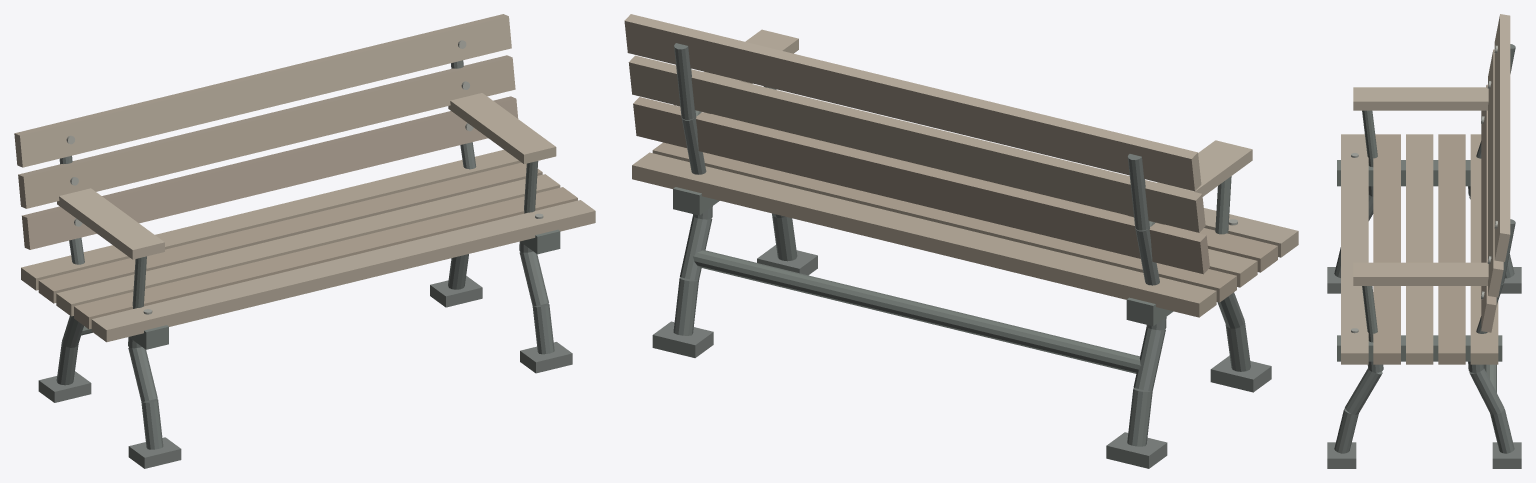
The picture shows the model from 3 angles, left to right: view 1: azimuth 30°, elevation 25°; view 2: azimuth 150°, elevation 25°; view 3: azimuth 270°, elevation 25°; orthographic projection. The views are drawn at different scales.
Parts seen in each view (by area): view 1: Backrest_Slat_03_Top_Bleached, Backrest_Slat_02_Middle, Backrest_Slat_01_Lower, Seat_Slat_01_Front_Worn, Seat_Slat_03, Seat_Slat_04, Seat_Slat_02, Seat_Slat_05_Rear, Right_Arm_Timber_Cap_Worn, Left_Arm_Timber_Cap_Worn, Left_Front_Foot_Shoe, Right_Front_Foot_Shoe (+12 smaller); view 2: Backrest_Slat_03_Top_Bleached, Backrest_Slat_01_Lower, Backrest_Slat_02_Middle, Seat_Slat_05_Rear, Rear_Leg_Transverse_Stretcher, Seat_Slat_04, Seat_Slat_02, Left_Arm_Timber_Cap_Worn, Seat_Slat_01_Front_Worn, Left_Rear_Foot_Shoe, Right_Rear_Foot_Shoe, Left_Front_Foot_Shoe (+16 smaller); view 3: Seat_Slat_01_Front_Worn, Seat_Slat_03, Seat_Slat_04, Seat_Slat_02, Backrest_Slat_03_Top_Bleached, Left_Arm_Timber_Cap_Worn, Right_Arm_Timber_Cap_Worn, Seat_Slat_05_Rear, Backrest_Slat_02_Middle, Backrest_Slat_01_Lower, Right_Underseat_Bearing_Rail, Right_Front_Leg_Middle_Curve (+12 smaller).
Boxes of the visible parts, bbox=[...] form: Backrest_Slat_03_Top_Bleached: bbox=[14, 14, 511, 167]; Backrest_Slat_02_Middle: bbox=[18, 55, 515, 208]; Backrest_Slat_01_Lower: bbox=[22, 96, 518, 249]; Seat_Slat_01_Front_Worn: bbox=[91, 200, 595, 342]; Seat_Slat_03: bbox=[56, 174, 560, 316]; Seat_Slat_04: bbox=[38, 162, 542, 303]; Seat_Slat_02: bbox=[74, 187, 577, 329]; Seat_Slat_05_Rear: bbox=[21, 149, 521, 290]; Right_Arm_Timber_Cap_Worn: bbox=[448, 93, 556, 164]; Left_Arm_Timber_Cap_Worn: bbox=[57, 188, 164, 259]; Left_Front_Foot_Shoe: bbox=[128, 437, 181, 468]; Right_Front_Foot_Shoe: bbox=[520, 342, 572, 373]; Backrest_Slat_03_Top_Bleached: bbox=[624, 14, 1201, 191]; Backrest_Slat_01_Lower: bbox=[633, 97, 1209, 274]; Backrest_Slat_02_Middle: bbox=[628, 55, 1205, 232]; Seat_Slat_05_Rear: bbox=[632, 152, 1216, 317]; Rear_Leg_Transverse_Stretcher: bbox=[692, 250, 1141, 373]; Seat_Slat_04: bbox=[652, 142, 1236, 302]; Seat_Slat_02: bbox=[704, 112, 1277, 272]; Left_Arm_Timber_Cap_Worn: bbox=[1127, 140, 1252, 224]; Seat_Slat_01_Front_Worn: bbox=[1204, 208, 1298, 257]; Left_Rear_Foot_Shoe: bbox=[1106, 432, 1167, 468]; Right_Rear_Foot_Shoe: bbox=[652, 321, 713, 357]; Left_Front_Foot_Shoe: bbox=[1210, 355, 1271, 392]; Seat_Slat_01_Front_Worn: bbox=[1341, 134, 1368, 364]; Seat_Slat_03: bbox=[1406, 134, 1433, 364]; Seat_Slat_04: bbox=[1438, 134, 1465, 364]; Seat_Slat_02: bbox=[1373, 134, 1400, 364]; Backrest_Slat_03_Top_Bleached: bbox=[1494, 14, 1510, 261]; Left_Arm_Timber_Cap_Worn: bbox=[1353, 87, 1488, 110]; Right_Arm_Timber_Cap_Worn: bbox=[1353, 262, 1488, 285]; Seat_Slat_05_Rear: bbox=[1470, 134, 1498, 364]; Backrest_Slat_02_Middle: bbox=[1488, 49, 1503, 297]; Backrest_Slat_01_Lower: bbox=[1481, 84, 1496, 332]; Right_Underseat_Bearing_Rail: bbox=[1337, 335, 1502, 361]; Right_Front_Leg_Middle_Curve: bbox=[1345, 368, 1382, 414].
Size of the model in its own units: 1.6 by 0.85 by 0.6.
